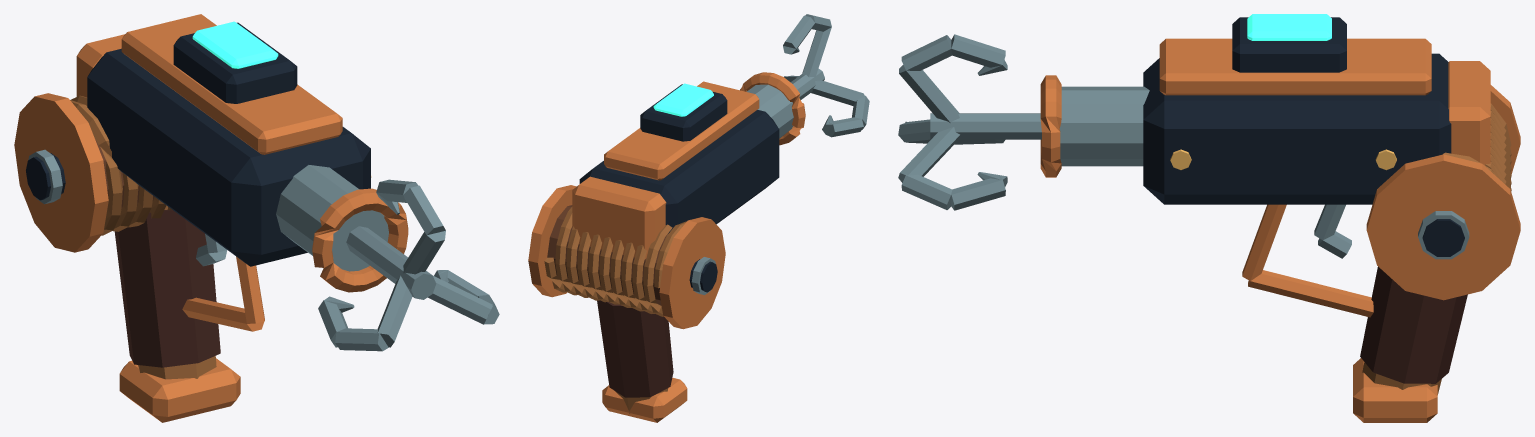
The model's file is Grapple_Launcher.gltf.
The picture shows the model from 3 angles, left to right: view 1: azimuth 30°, elevation 25°; view 2: azimuth 150°, elevation 25°; view 3: azimuth 270°, elevation 25°; orthographic projection. The views are drawn at different scales.
Parts seen in each view (by area): view 1: Receiver_0, Grip_Wrap_6, Copper_Rail_1, Reel_Sideplate_15, Barrel_2, Grip_Pommel_7, Power_Cell_Housing_33, Muzzle_Collar_3, Wound_Rope_19, Hook_Shaft_20, Rift_Power_Cell_34, Trigger_Guard2_10 (+12 smaller); view 2: Receiver_0, Wound_Rope_19, Grip_Wrap_6, Rear_Cap_4, Copper_Rail_1, Reel_Sideplate_15, Power_Cell_Housing_33, Reel_Sideplate_17, Grip_Pommel_7, Muzzle_Collar_3, Barrel_2, Reel_Core_14 (+9 smaller); view 3: Receiver_0, Reel_Sideplate_17, Copper_Rail_1, Grip_Wrap_6, Barrel_2, Power_Cell_Housing_33, Rear_Cap_4, Grip_Pommel_7, Hook_Shaft_20, Trigger_Guard2_10, Rift_Power_Cell_34, Muzzle_Collar_3 (+13 smaller).
Boxes of the visible parts, x1,y1,x2,y2 form: Receiver_0: (87, 48, 370, 266); Grip_Wrap_6: (114, 209, 220, 367); Copper_Rail_1: (121, 14, 342, 154); Reel_Sideplate_15: (14, 93, 108, 252); Barrel_2: (276, 165, 388, 271); Grip_Pommel_7: (119, 358, 240, 422); Power_Cell_Housing_33: (173, 22, 297, 103); Muzzle_Collar_3: (312, 188, 408, 292); Wound_Rope_19: (70, 95, 172, 235); Hook_Shaft_20: (346, 226, 436, 299); Rift_Power_Cell_34: (192, 21, 278, 68); Trigger_Guard2_10: (182, 297, 264, 331); Receiver_0: (579, 110, 779, 233); Wound_Rope_19: (544, 207, 686, 316); Grip_Wrap_6: (597, 300, 673, 397); Rear_Cap_4: (572, 176, 666, 259); Copper_Rail_1: (604, 81, 759, 180); Reel_Sideplate_15: (659, 217, 725, 329); Power_Cell_Housing_33: (640, 84, 727, 141); Reel_Sideplate_17: (528, 185, 576, 297); Grip_Pommel_7: (602, 377, 687, 422); Muzzle_Collar_3: (740, 72, 805, 145); Barrel_2: (746, 84, 793, 138); Reel_Core_14: (547, 205, 667, 305); Receiver_0: (1143, 53, 1451, 204); Reel_Sideplate_17: (1366, 154, 1520, 300); Copper_Rail_1: (1159, 38, 1431, 95); Grip_Wrap_6: (1360, 266, 1467, 383); Barrel_2: (1059, 86, 1149, 166); Power_Cell_Housing_33: (1232, 17, 1346, 72); Rear_Cap_4: (1448, 61, 1490, 165); Grip_Pommel_7: (1353, 358, 1437, 422); Hook_Shaft_20: (930, 113, 1041, 139); Trigger_Guard2_10: (1248, 270, 1373, 317); Rift_Power_Cell_34: (1247, 14, 1331, 40); Muzzle_Collar_3: (1040, 75, 1061, 177).
Bounding box in the file's own units: 0.86 × 1.4 × 2.06.
